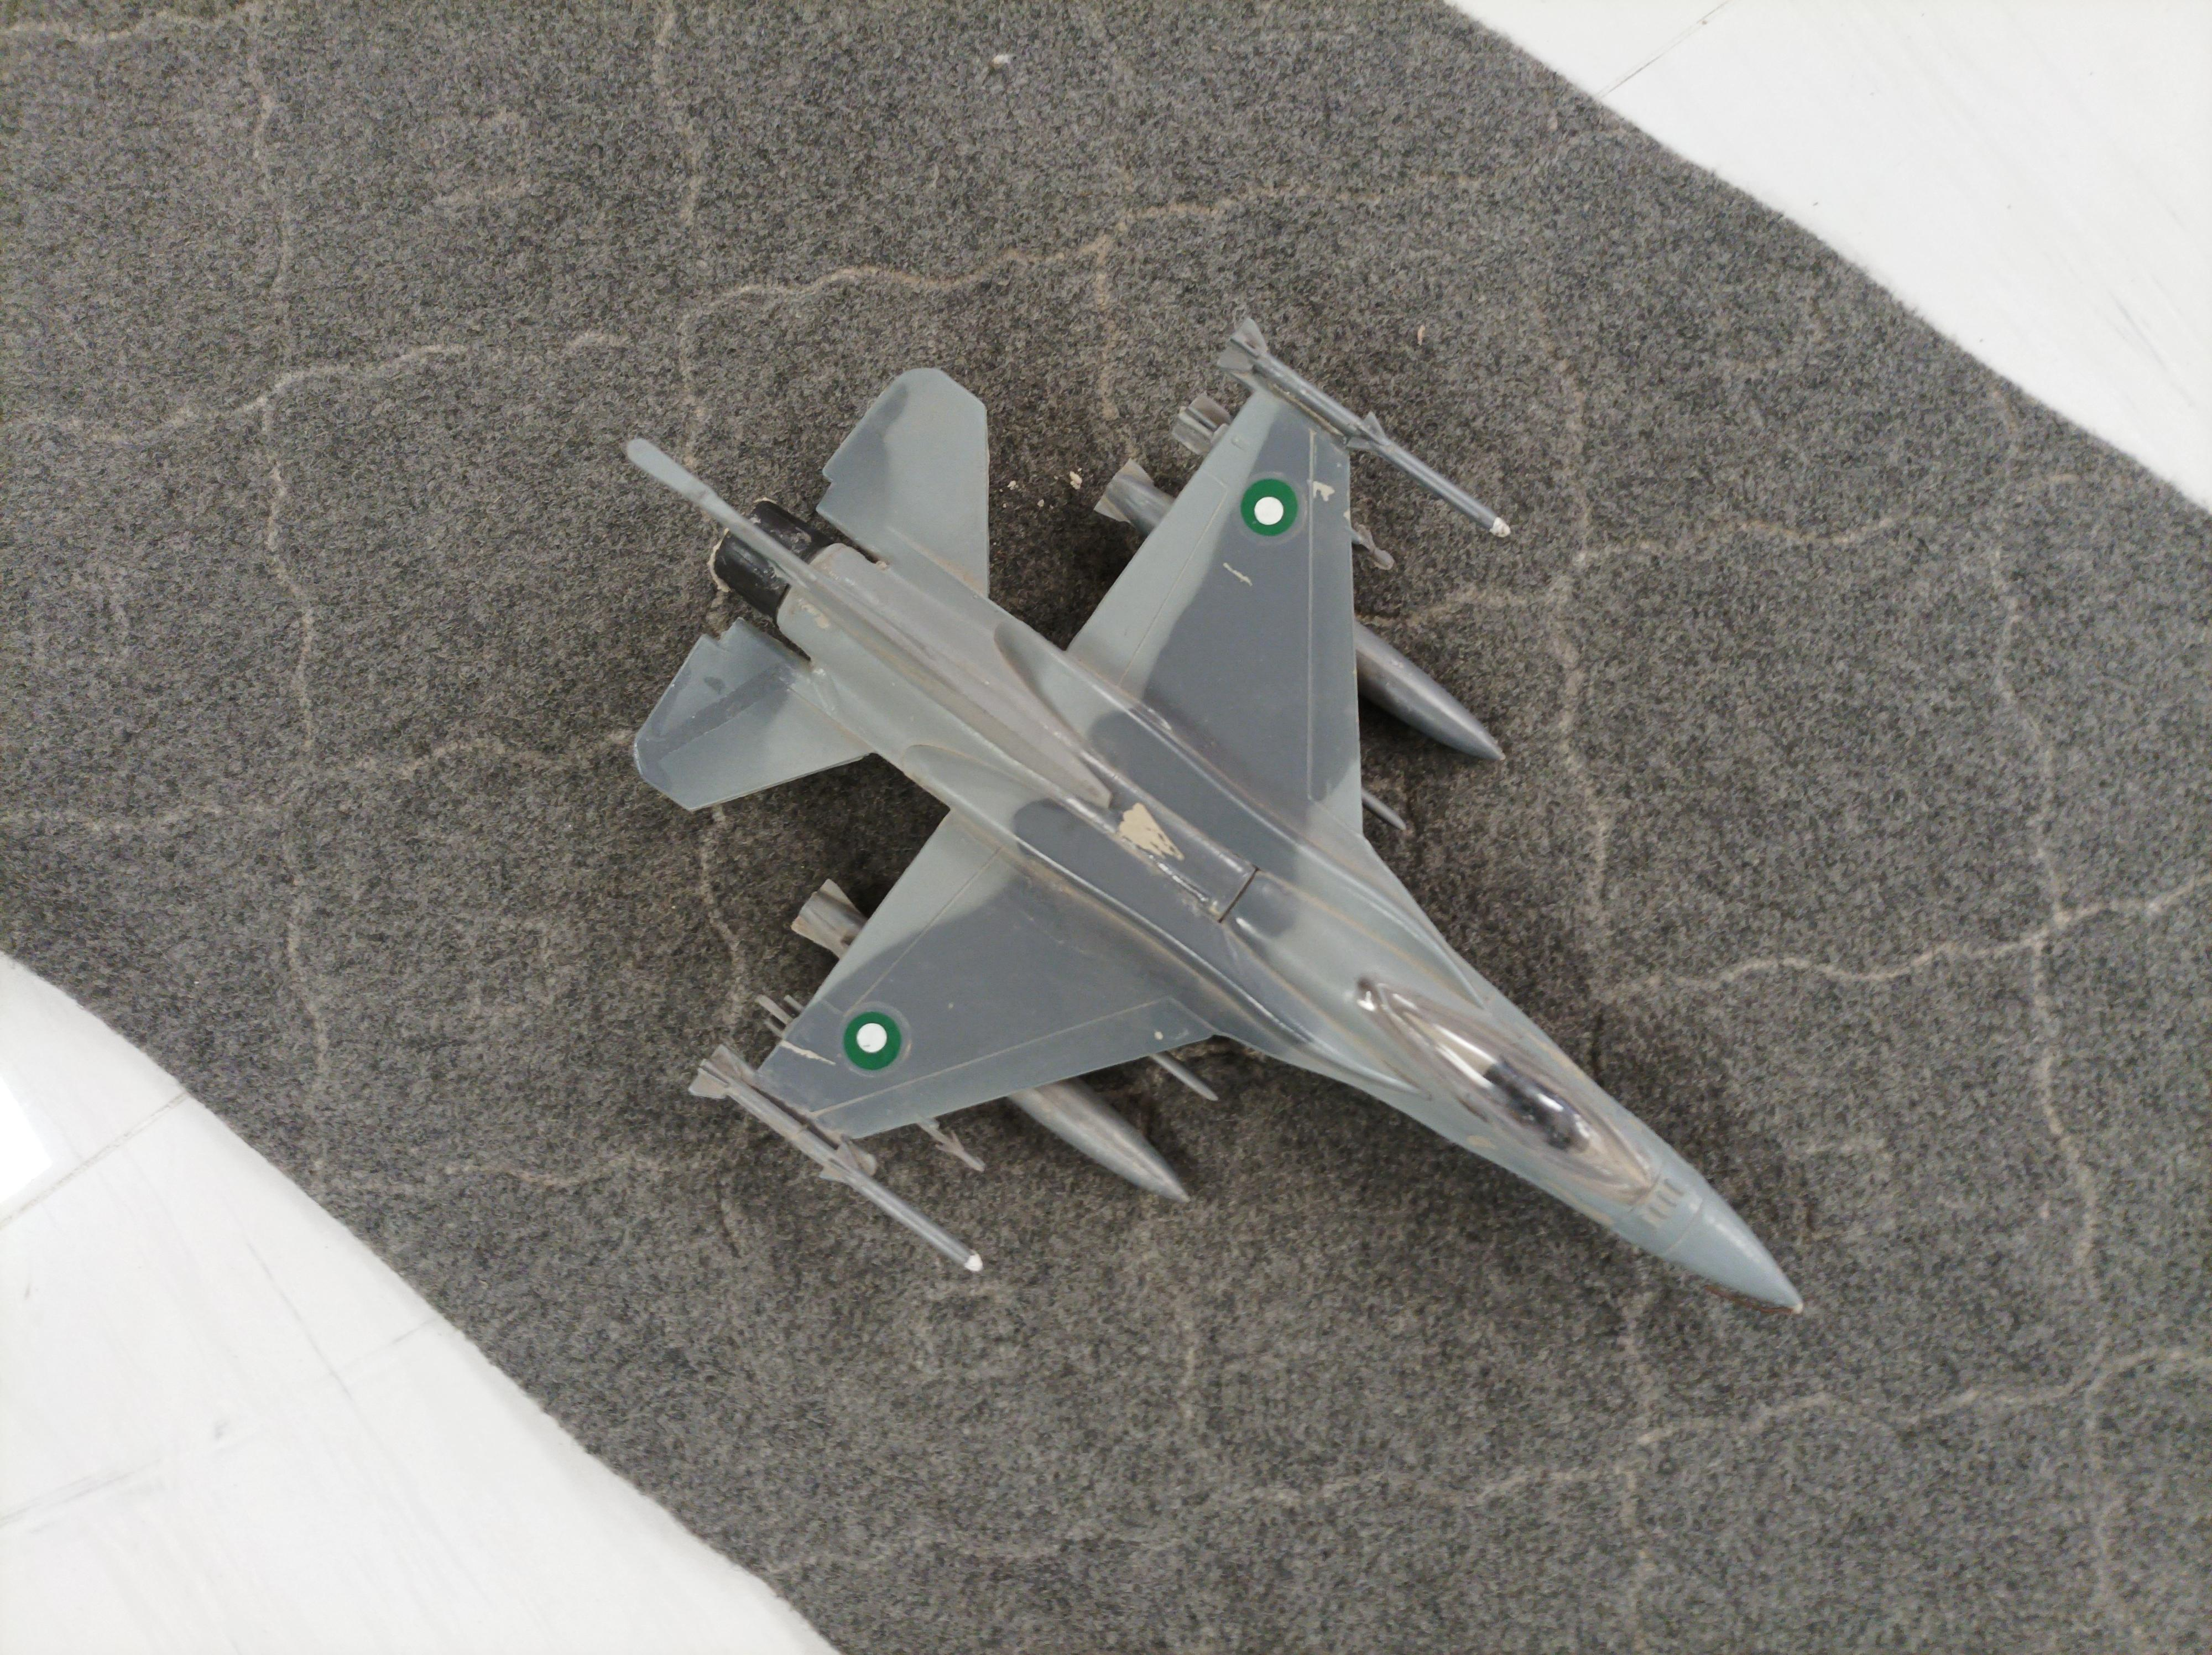Airplane: (612, 308, 1837, 1353)
